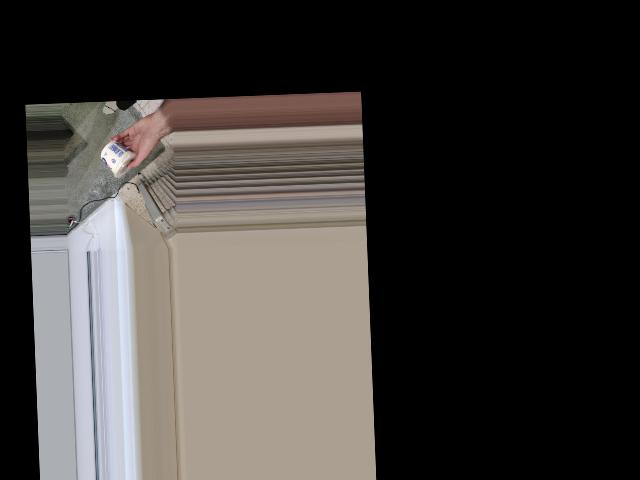cotage: (99, 137, 138, 179)
